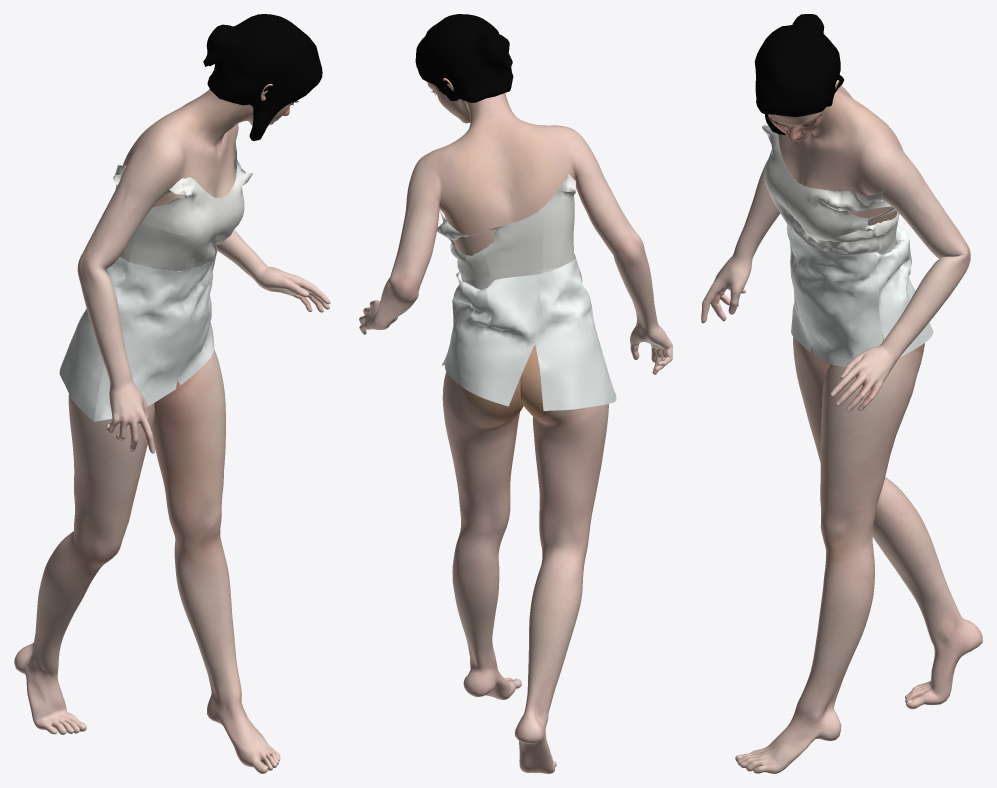
File: random.obj
3 views of the same model, side by side, from view 1: azimuth 30°, elevation 25°; view 2: azimuth 150°, elevation 25°; view 3: azimuth 270°, elevation 25° (orthographic). The views are drawn at different scales.
Bounding box in the file's own units: 683 × 1739 × 590.
